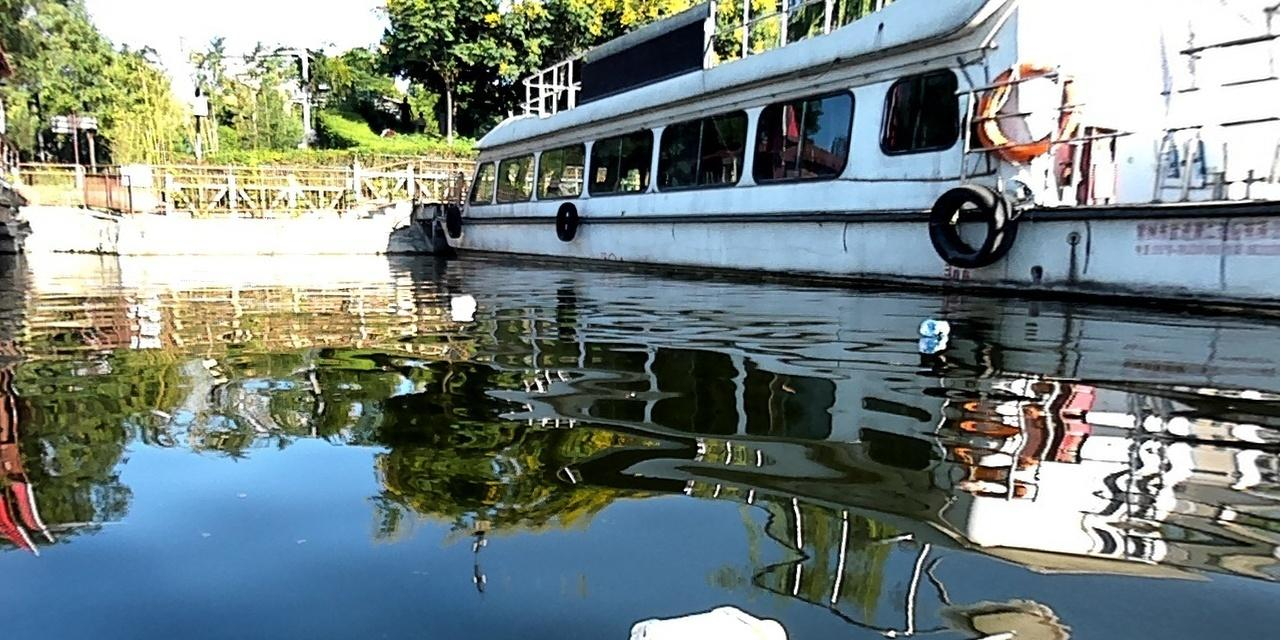bottle: (622, 602, 794, 639), (915, 314, 951, 339)
